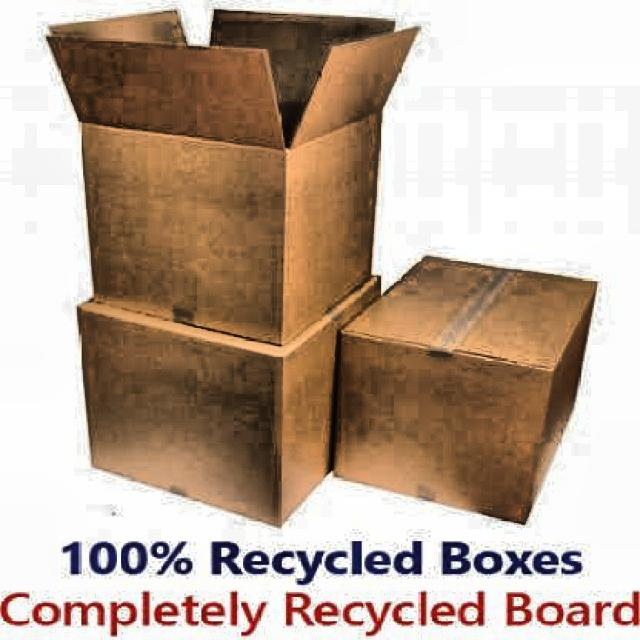Cardbox: (70, 13, 394, 526), (346, 233, 600, 519)
